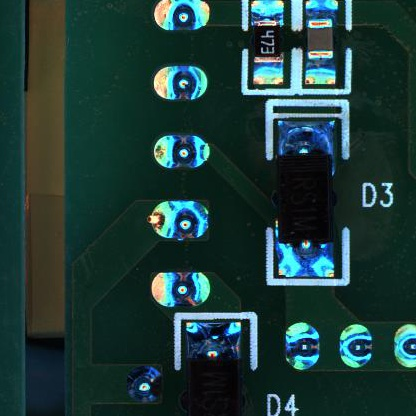spot: (150, 198, 210, 239), (154, 63, 211, 103), (148, 271, 210, 307), (154, 133, 210, 172), (151, 1, 212, 31), (284, 324, 319, 372), (339, 325, 373, 370), (126, 365, 163, 404), (393, 321, 415, 371)
